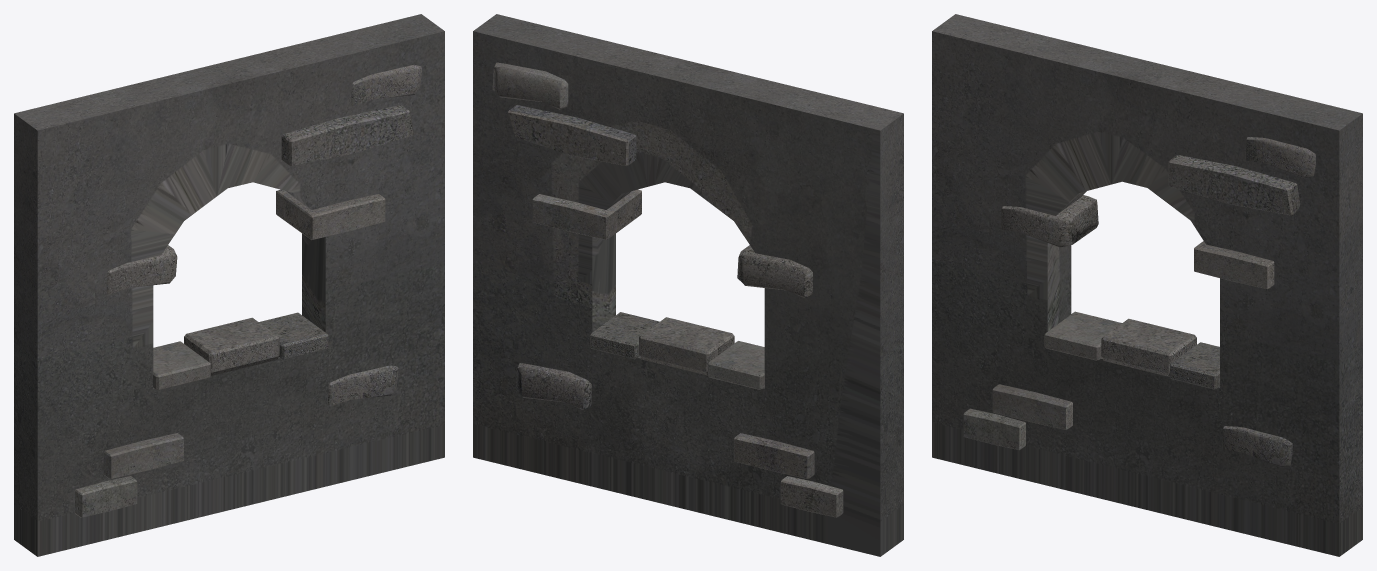
The model's file is Wall_window.fbx.
3 renders of one model, left to right at view 1: azimuth 30°, elevation 25°; view 2: azimuth 150°, elevation 25°; view 3: azimuth 330°, elevation 25°, orthographic.
Parts seen in each view (by area): view 1: Wall_window; view 2: Wall_window; view 3: Wall_window.
Part boxes in pixels (x1,y1,x2,y2): Wall_window: (14,14,444,556); Wall_window: (473,14,903,556); Wall_window: (932,14,1362,556).
Size of the model in its own units: 3 by 3 by 0.5217.
1 material, 1 textured.
